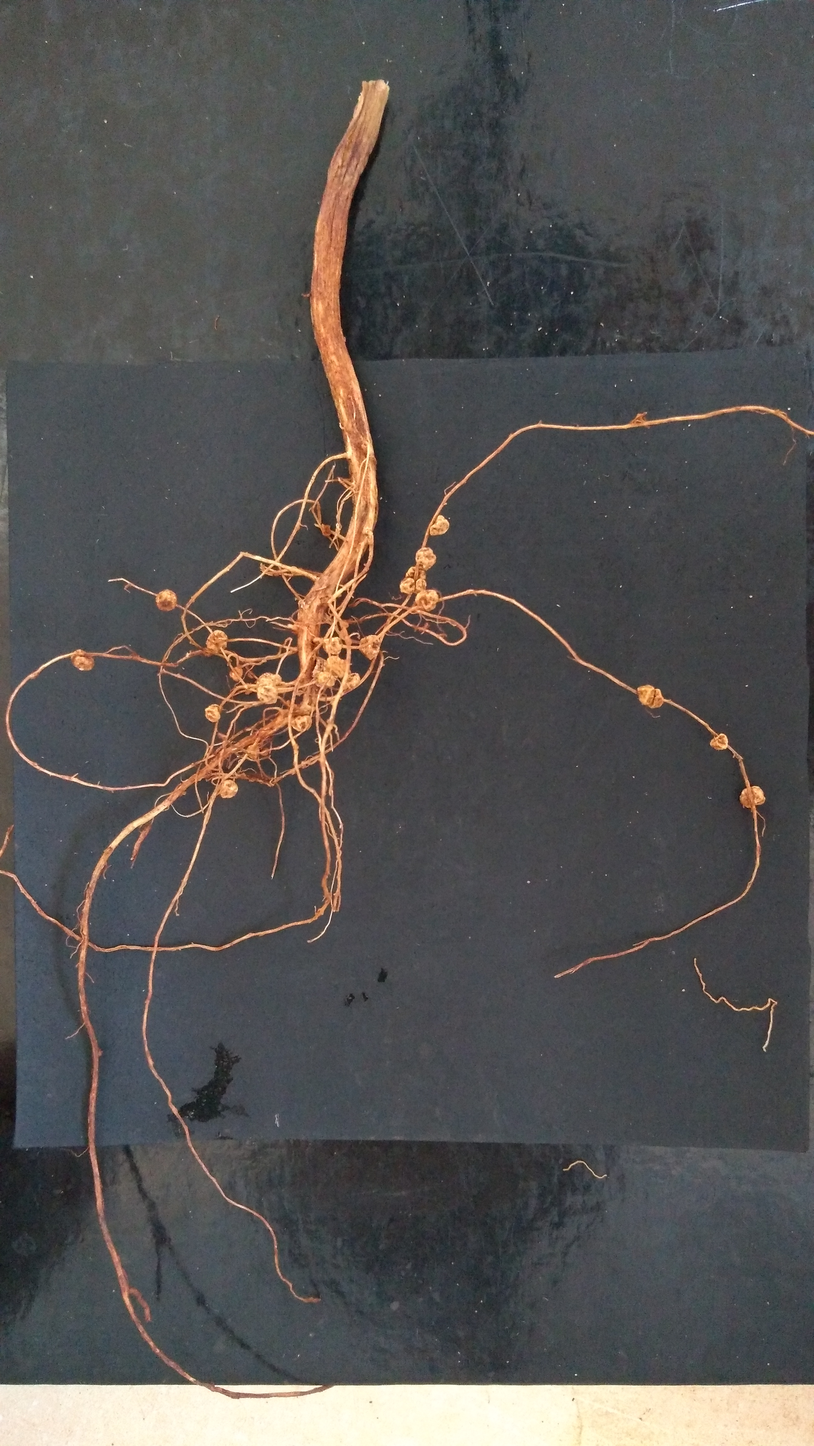nodule: (256, 672, 282, 704), (400, 566, 427, 594), (312, 657, 337, 687), (637, 684, 664, 709), (738, 785, 766, 808), (324, 655, 351, 678), (414, 589, 439, 611), (359, 634, 380, 660), (205, 630, 228, 653), (70, 649, 94, 671), (415, 547, 436, 570), (156, 589, 177, 611), (291, 713, 313, 732), (322, 636, 342, 656), (219, 779, 238, 799), (430, 515, 449, 535), (709, 733, 728, 750), (204, 704, 221, 723), (341, 673, 360, 689), (229, 666, 243, 681), (246, 744, 260, 759), (320, 523, 332, 536), (259, 745, 270, 756), (287, 623, 298, 631)
